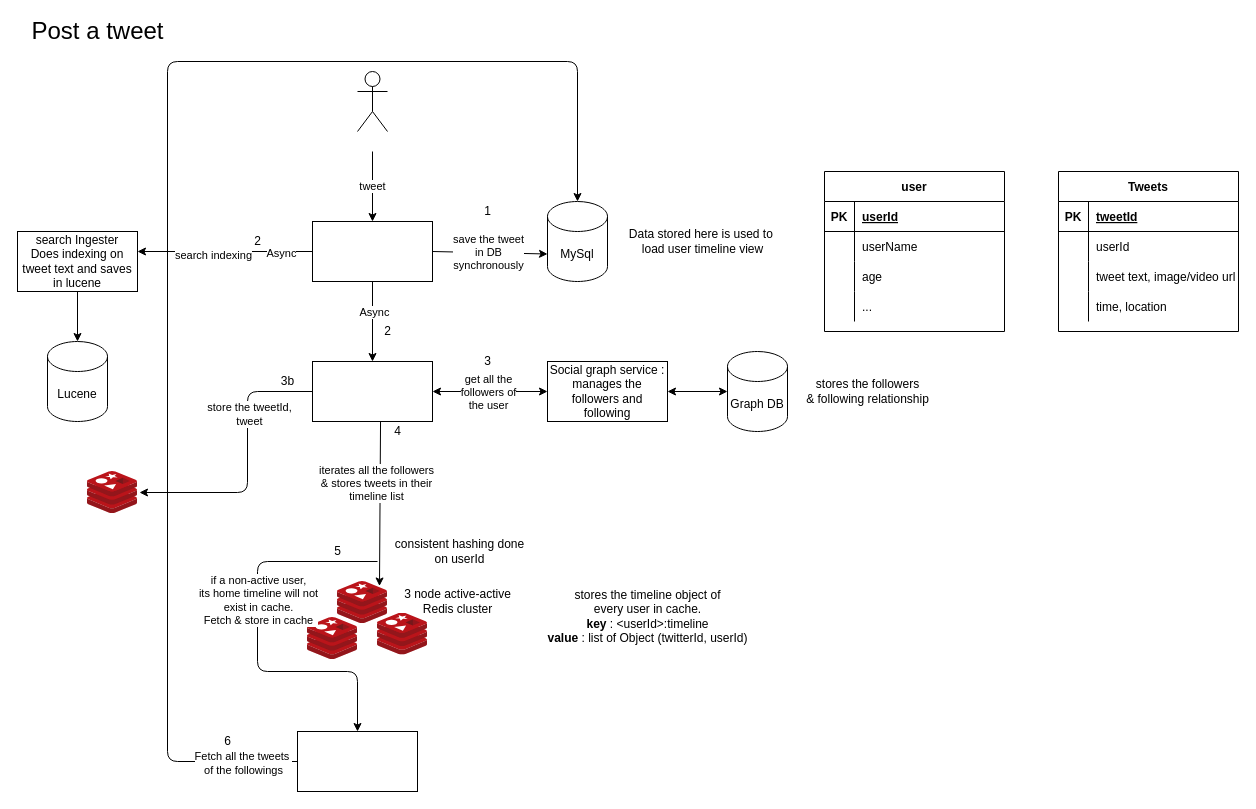
The diagram is 1256 pixels wide and 809 high, and some of its shapes have lost their labels. Each missing label, with the centre of its shape:
"Actor" goes at point (372, 101).
"fanout" goes at point (372, 391).
"timeline service" goes at point (357, 761).
"write API" goes at point (372, 251).
